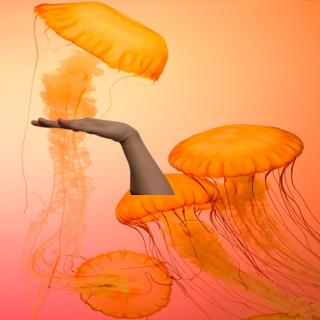WAIT: (24, 112, 137, 145)
